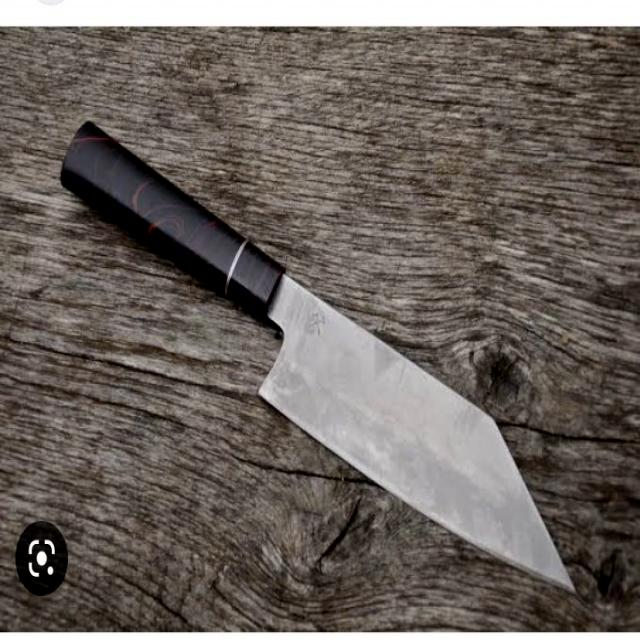knife: (62, 112, 585, 601)
